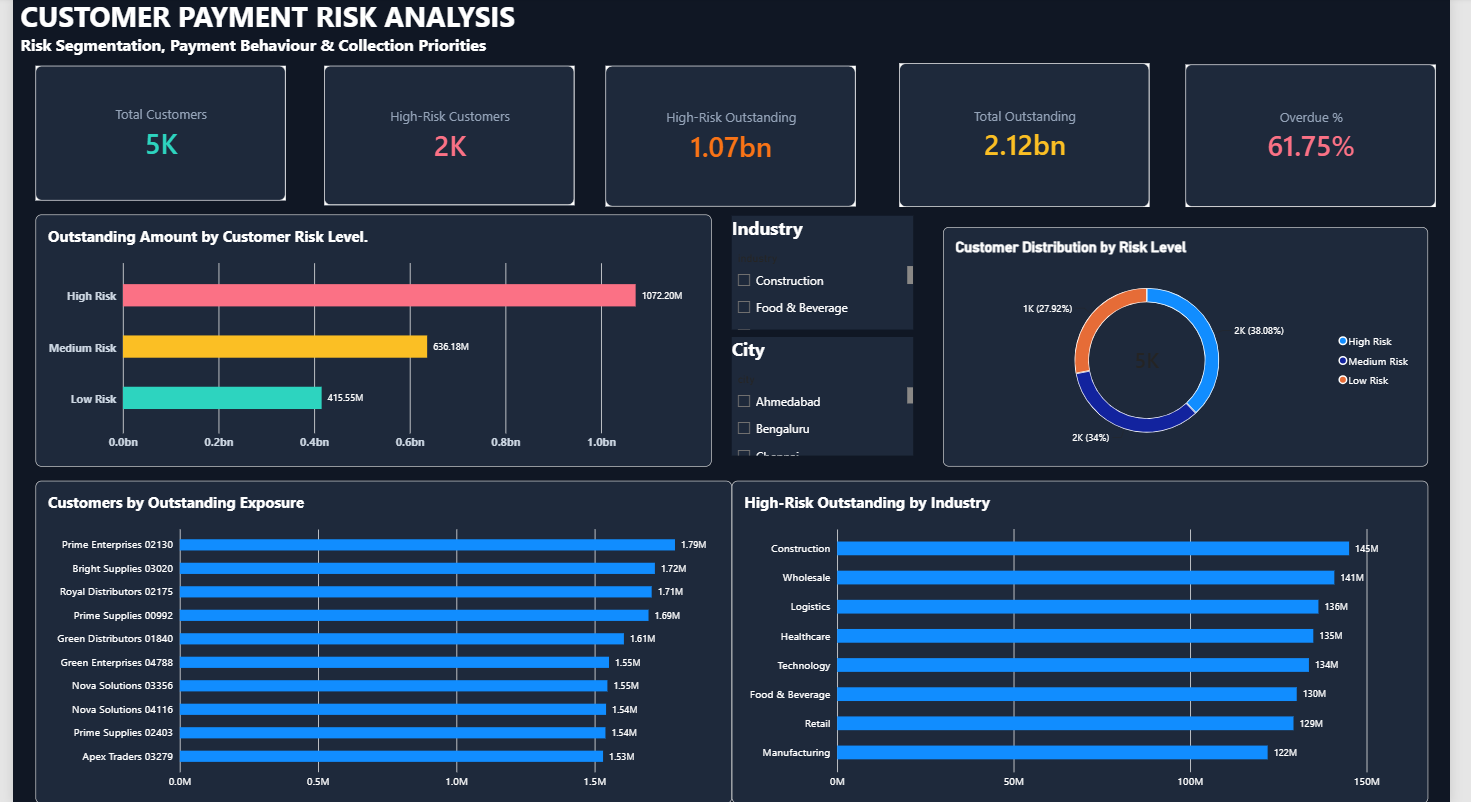

This screenshot's page, from the dashboard's own definition file:
{"tool":"powerbi","page":{"name":"Page 3","canvas":[1920,1080],"ordinal":2},"visuals":[{"type":"textbox","box":[10.3,0,1280.3,185.2],"z":0},{"type":"cardVisual","fields":{"Data":["sme_working_capital customers.Total Outstanding"]},"box":[1184,88,334,192],"z":1000},{"type":"cardVisual","fields":{"Data":["Calendar.High-Risk Customers"]},"box":[415.2,91.3,334.8,187],"z":2000},{"type":"cardVisual","fields":{"Data":["Calendar.Overdue %"]},"box":[1566,90,334,190],"z":3000},{"type":"cardVisual","fields":{"Data":["Calendar.Total Customers"]},"box":[30,92,334,180],"z":4000},{"type":"cardVisual","fields":{"Data":["Calendar.High-Risk Outstanding"]},"box":[792,92,334,188],"z":5000},{"type":"clusteredBarChart","title":"Outstanding Amount by Customer Risk Level.","fields":{"Category":["sme_working_capital vw_customer_payment_risk.risk_category"],"Y":["Calendar.Risk-Level Outstanding"]},"box":[30.4,291.3,902.8,336.6],"z":6000},{"type":"slicer","title":"City","fields":{"Values":["sme_working_capital customers.city"]},"box":[960,454,242,158],"z":7000},{"type":"slicer","title":"Industry","fields":{"Values":["sme_working_capital customers.industry"]},"box":[960,292,242,152],"z":8000},{"type":"clusteredBarChart","title":"High-Risk Outstanding by Industry","fields":{"Category":["sme_working_capital customers.industry"],"Y":["Calendar.High-Risk Outstanding by Industry"]},"box":[960.9,645.7,930.4,432.6],"z":9000},{"type":"clusteredBarChart","title":"Customers by Outstanding Exposure","fields":{"Category":["sme_working_capital vw_customer_payment_risk.customer_name"],"Y":["Calendar.Customer Outstanding Filtered"]},"box":[30,646,930.4,432.6],"z":10000},{"type":"donutChart","title":"Customer Distribution by Risk Level","fields":{"Category":["sme_working_capital vw_customer_payment_risk.risk_category"],"Y":["Calendar.Risk-Level Customer Count"]},"box":[1242,308,648,320],"z":11000}]}

Visuals, with their boxes on the page's 1920x1080 design canvas (x1, y1, x2, y2). These are canvas units, not pixel positions in the 1471x802 screenshot, which may show the page scaled, cropped or inside an application window:
textbox: 10,0,1291,185
cardVisual - sme_working_capital customers.Total Outstanding: 1184,88,1518,280
cardVisual - Calendar.High-Risk Customers: 415,91,750,278
cardVisual - Calendar.Overdue %: 1566,90,1900,280
cardVisual - Calendar.Total Customers: 30,92,364,272
cardVisual - Calendar.High-Risk Outstanding: 792,92,1126,280
"Outstanding Amount by Customer Risk Level." clusteredBarChart: 30,291,933,628
"City" slicer: 960,454,1202,612
"Industry" slicer: 960,292,1202,444
"High-Risk Outstanding by Industry" clusteredBarChart: 961,646,1891,1078
"Customers by Outstanding Exposure" clusteredBarChart: 30,646,960,1079
"Customer Distribution by Risk Level" donutChart: 1242,308,1890,628
